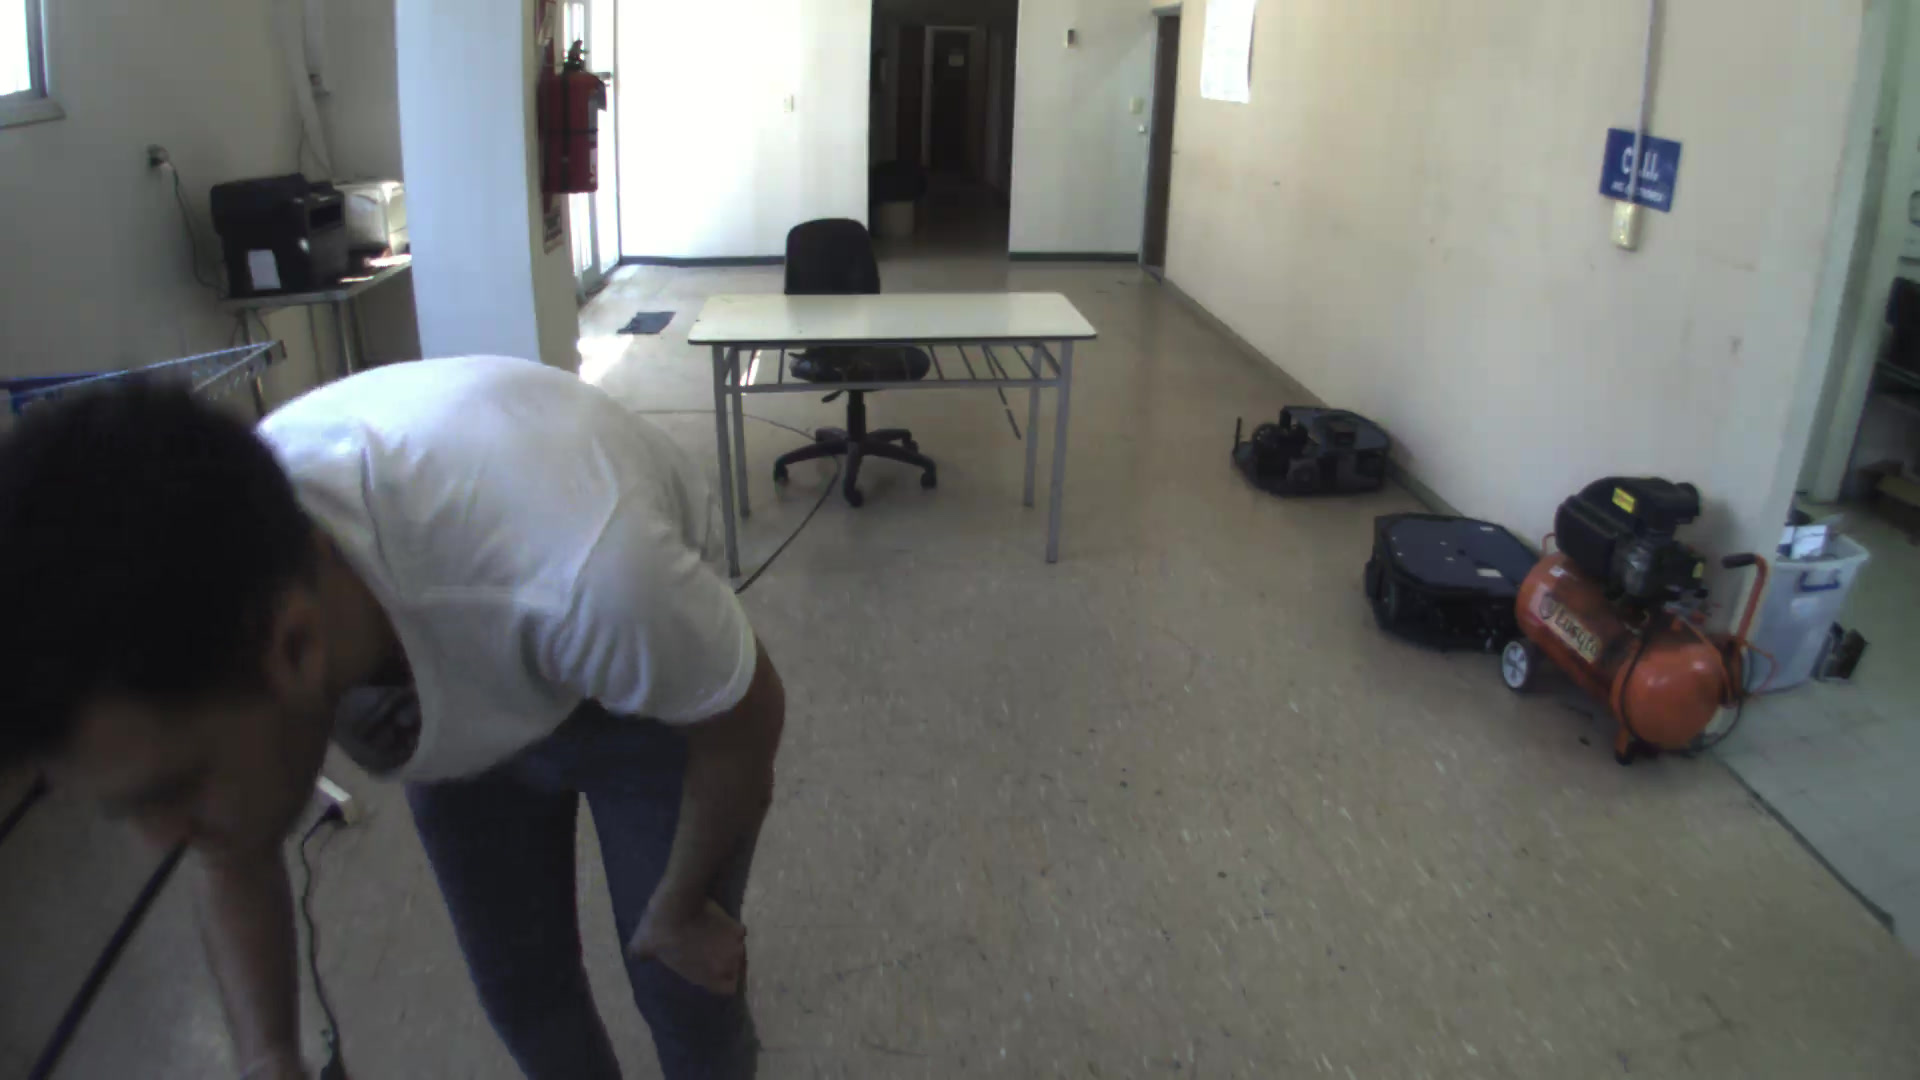hand: (624, 885, 757, 1015)
